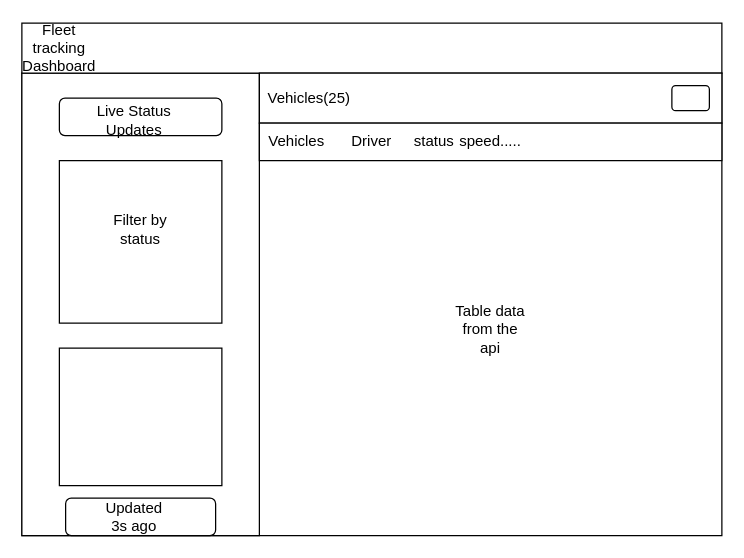
The diagram is 744 pixels wide and 558 high, and some of its shapes have lost their labels. Here are the shapes that lost their labels. From the top down, the centre of each, then its label:
At pixel 690 97: "Live".
At pixel 140 416: "Fleet Stats".
